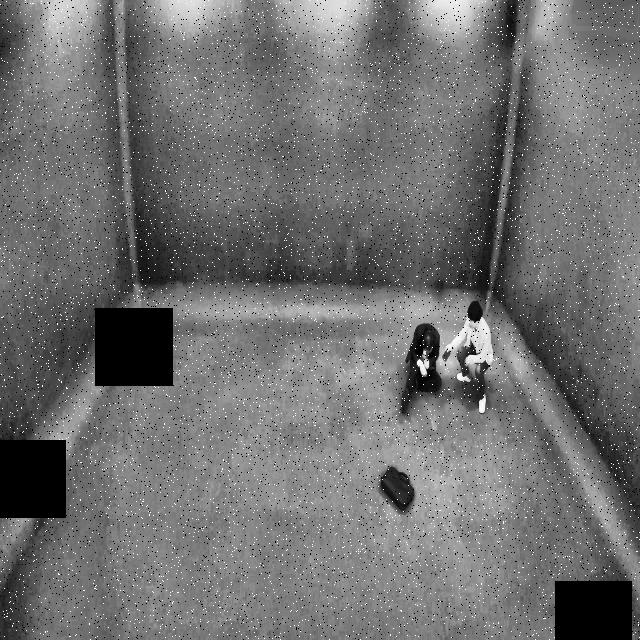assult: (394, 290, 504, 424)
